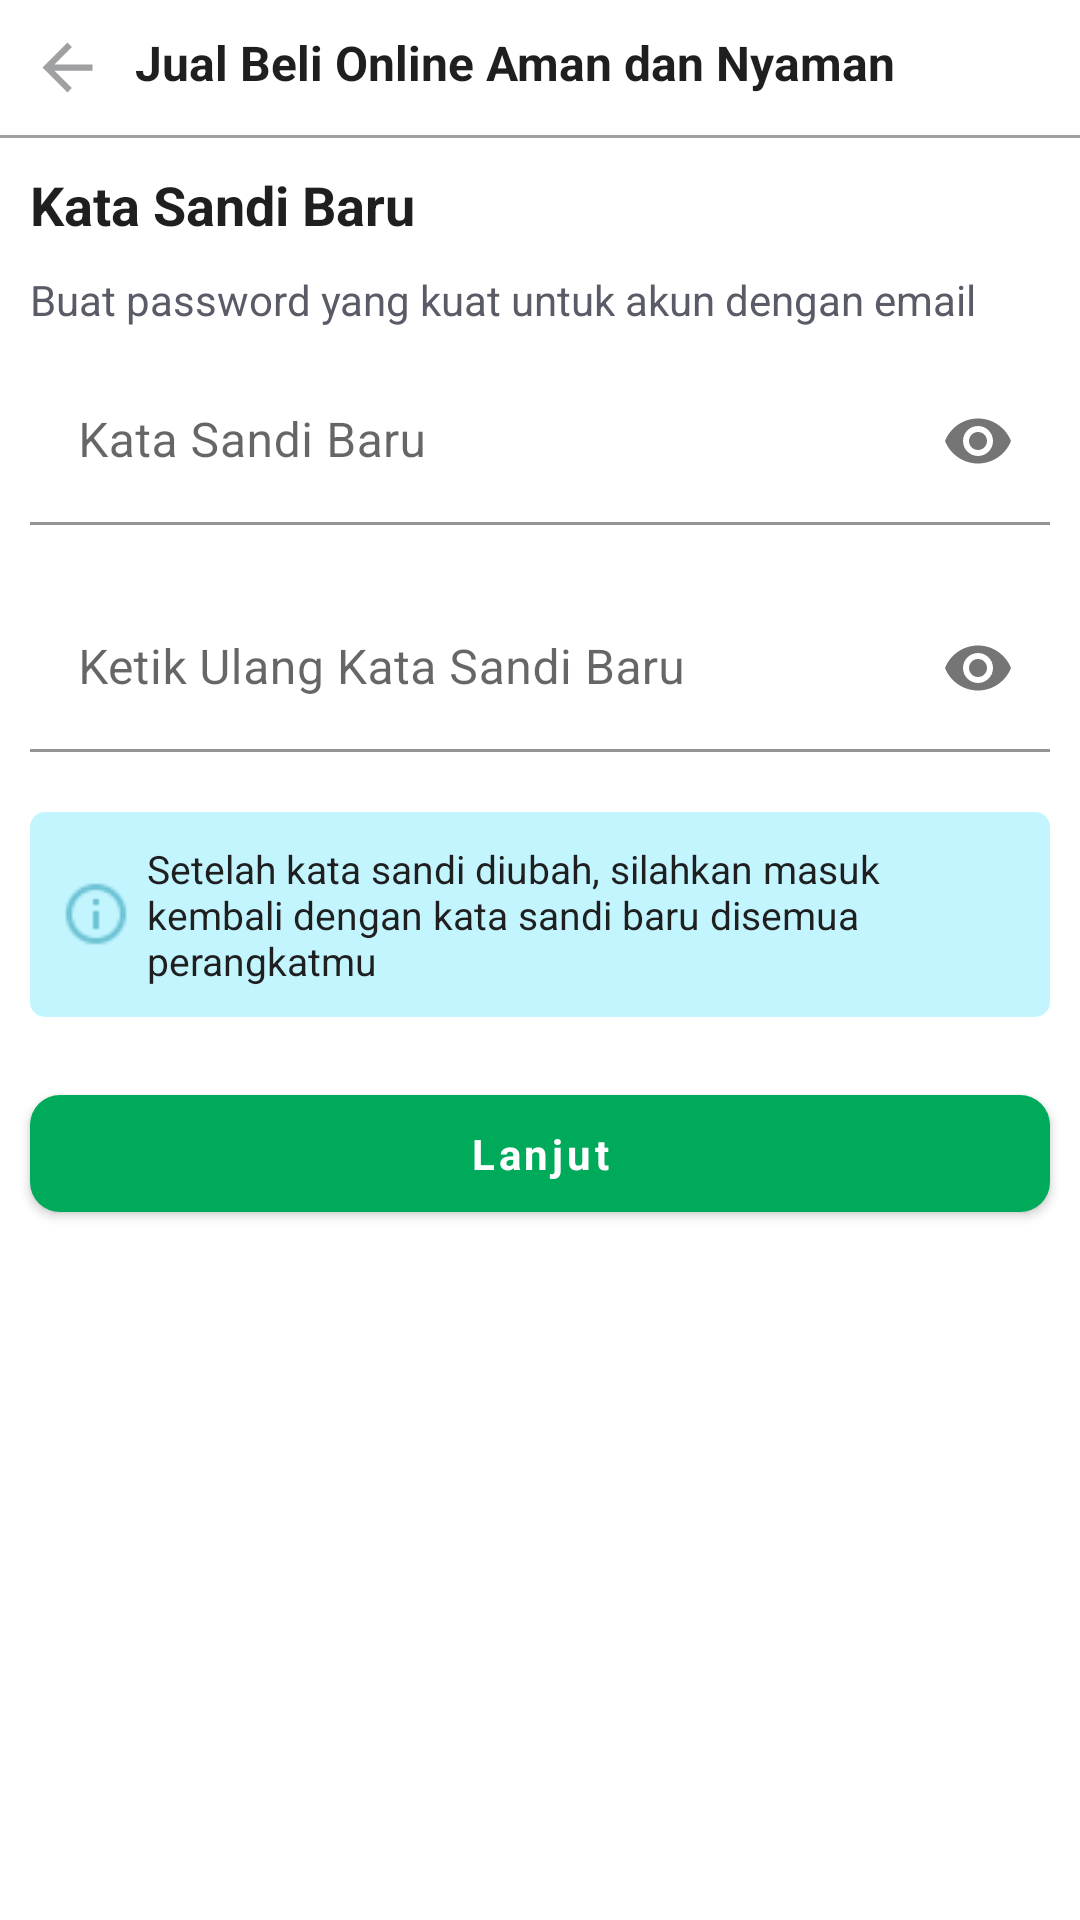

Where to tap for icons on this 1080×1920 app screen, as (x=x, y=y):
back: (x=68, y=67)
info: (x=96, y=914)
